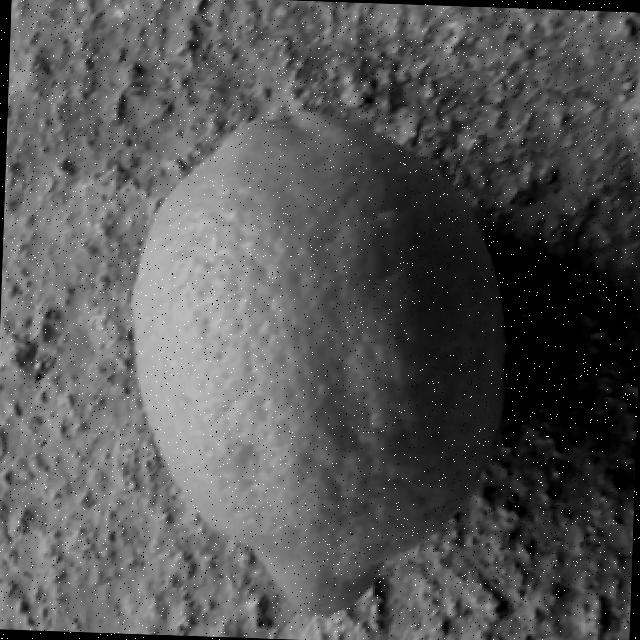Lemon: (114, 98, 519, 620)
